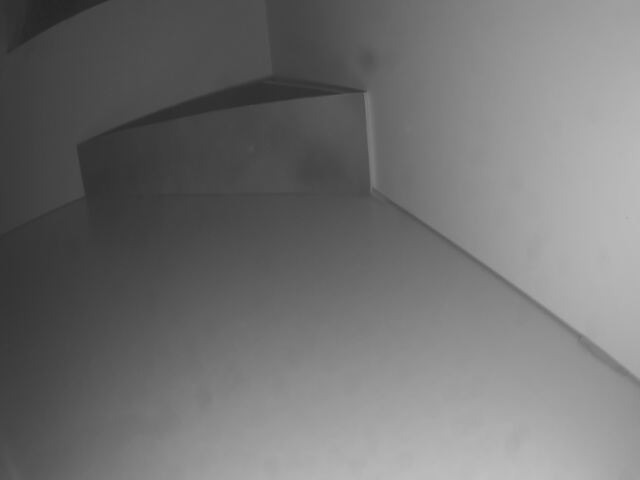Green: (80, 93, 366, 197)
